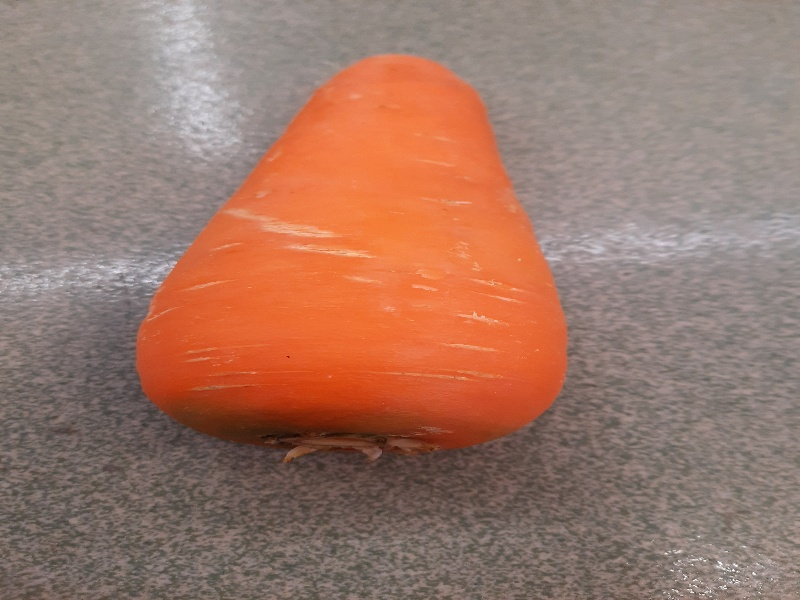vege: (131, 44, 571, 476)
